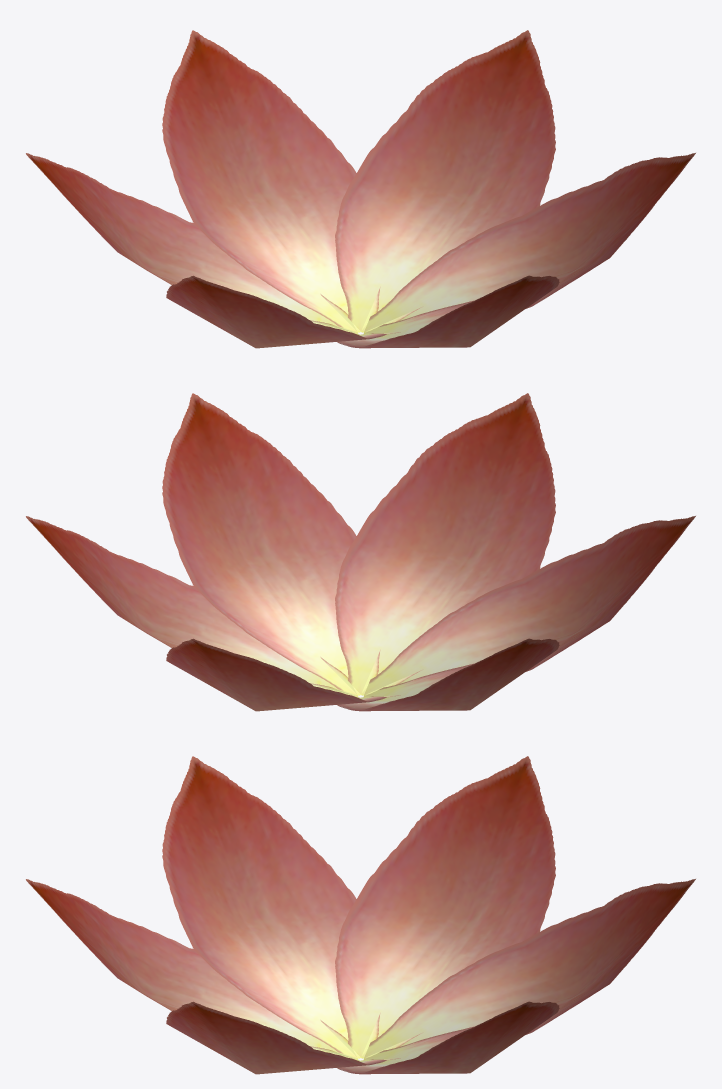
Rendered from changlefang01_hehua_eff01.FBX.
The picture shows the model from 3 angles, top to bottom: view 1: azimuth 30°, elevation 25°; view 2: azimuth 150°, elevation 25°; view 3: azimuth 270°, elevation 25°; orthographic projection.
Parts seen in each view (by area): view 1: changlefang01_hehua_eff01; view 2: changlefang01_hehua_eff01; view 3: changlefang01_hehua_eff01.
Part boxes in pixels (left/top/right/bottom): changlefang01_hehua_eff01: left=26, top=30, right=695, bottom=348; changlefang01_hehua_eff01: left=26, top=393, right=695, bottom=711; changlefang01_hehua_eff01: left=26, top=756, right=695, bottom=1074.
Bounding box in the file's own units: 82.24 × 28.83 × 94.6.
Materials: 1 (1 with a texture image).
